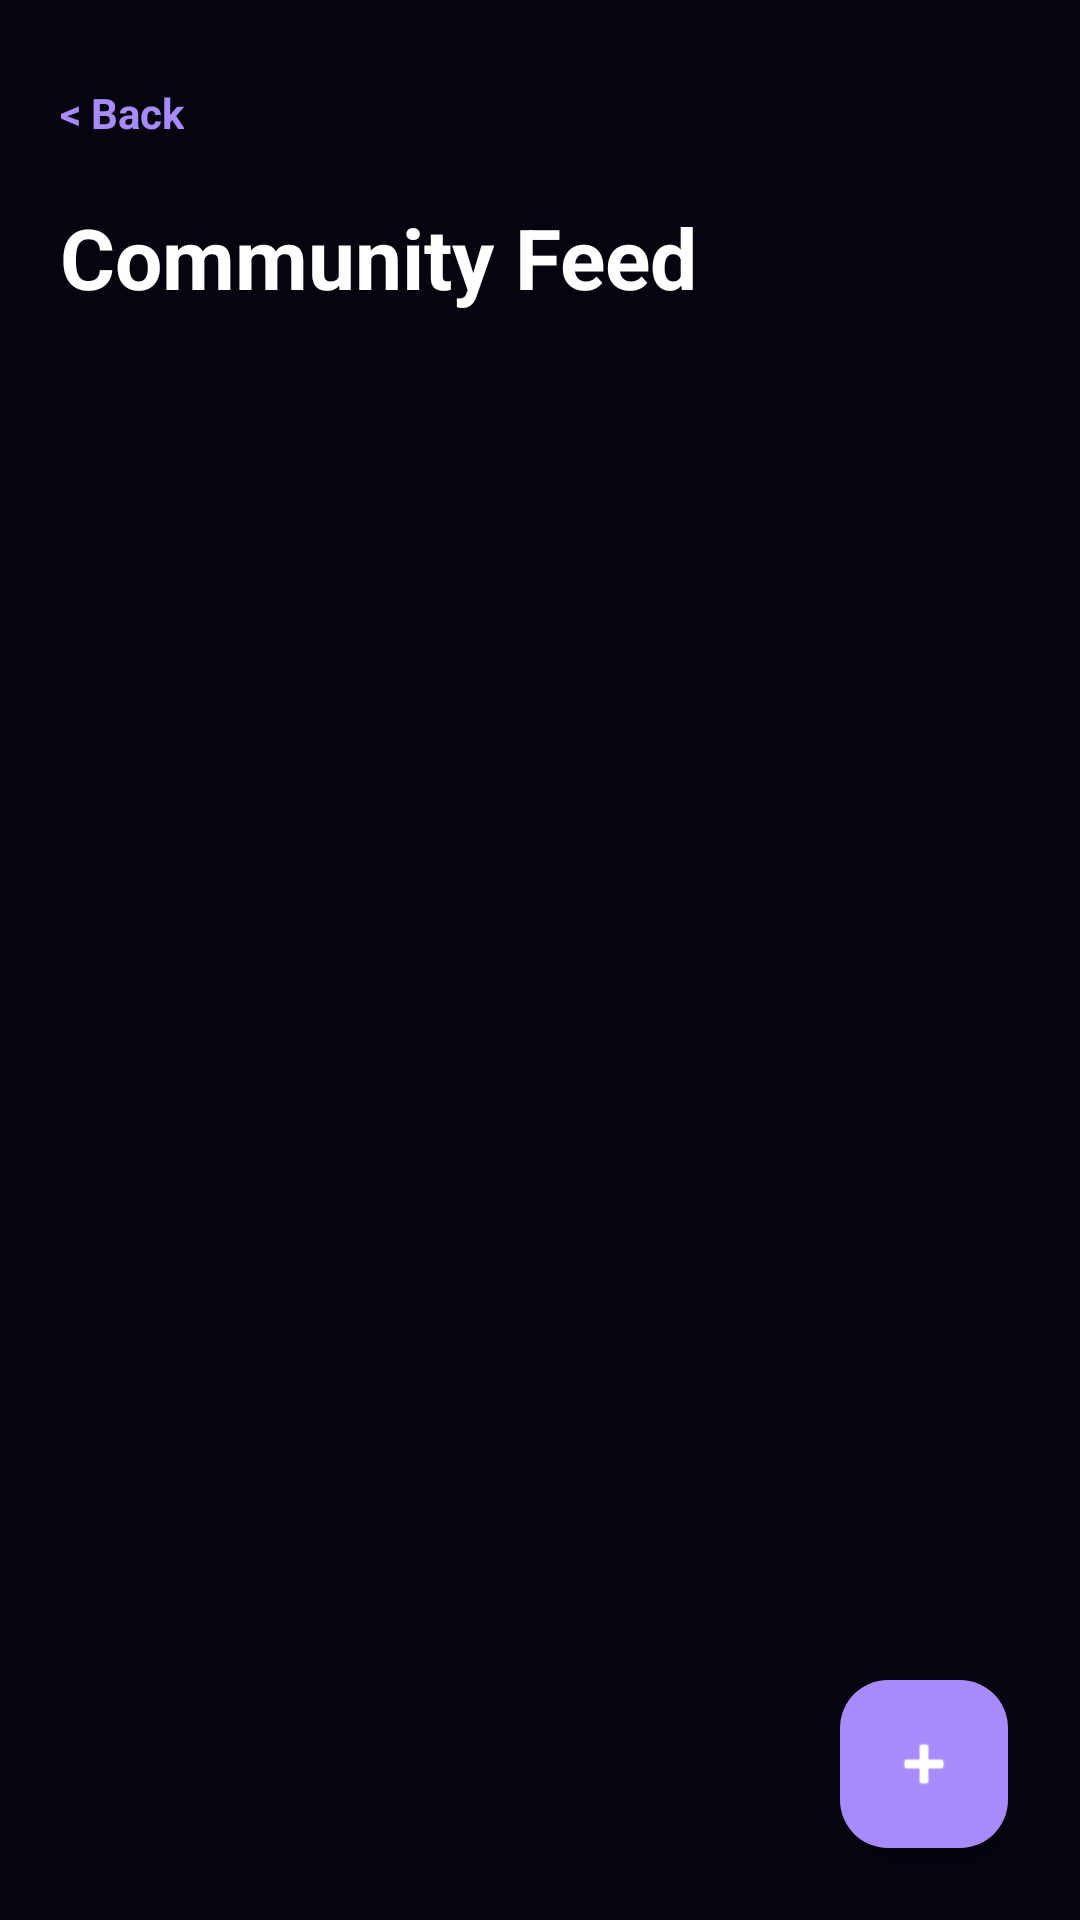

Where icons sit on this 1080 × 1920 app screen, as (x1=x1, y1=y1, x2=x2, y2=y2):
Create post: (x1=840, y1=1680, x2=1008, y2=1848)
